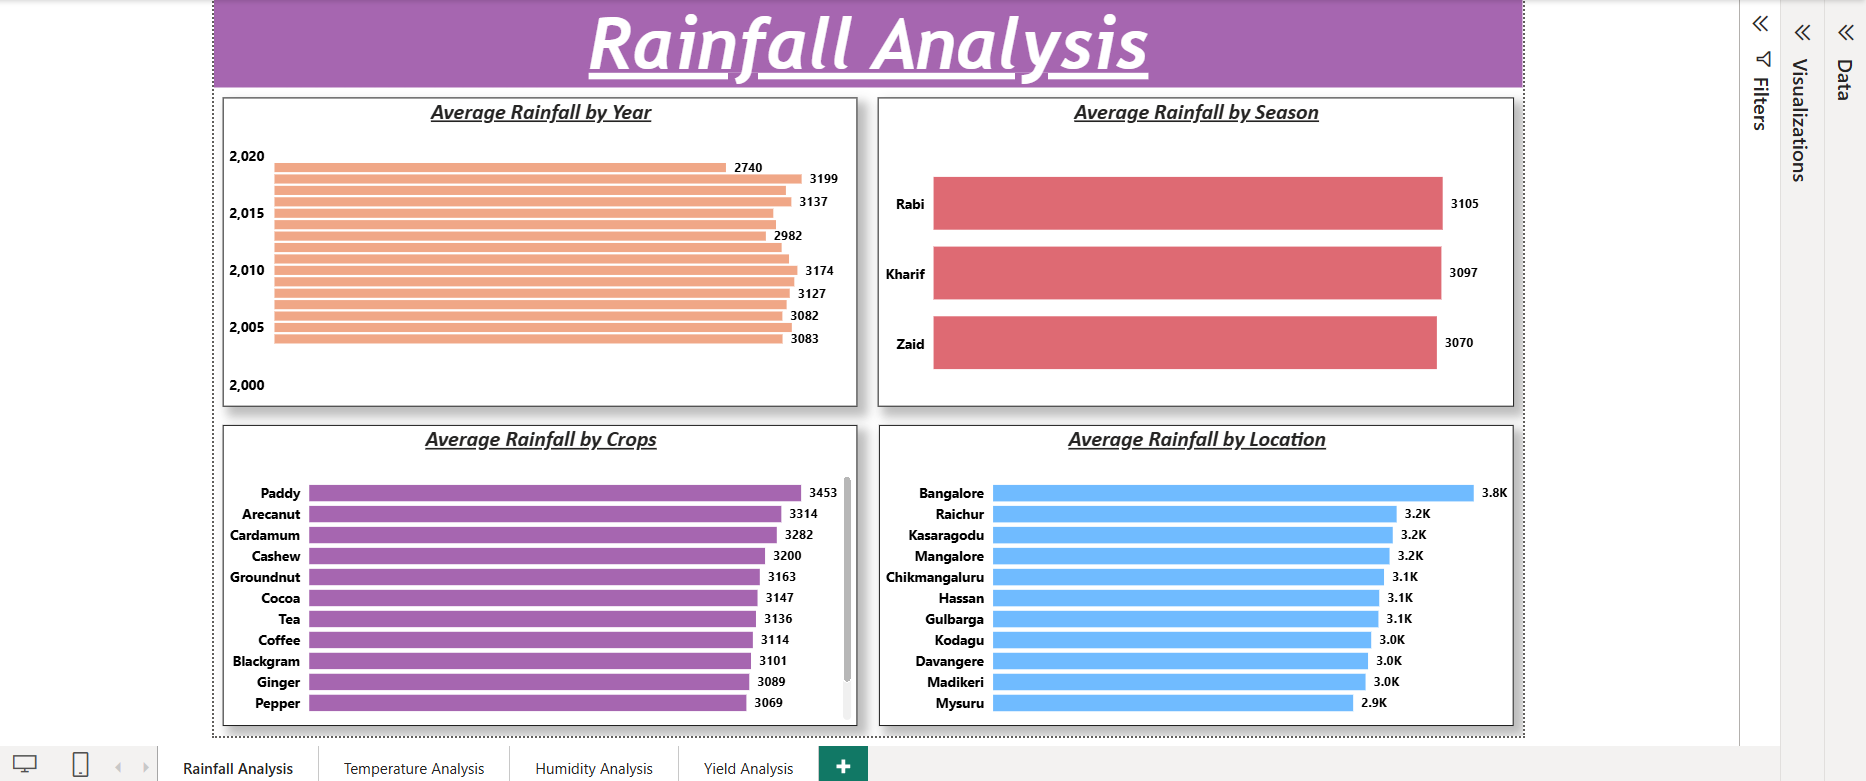

The dashboard page shown, as its layout file describes it:
{"tool":"powerbi","page":{"name":"Rainfall Analysis","canvas":[1280,720],"ordinal":0},"visuals":[{"type":"shape","box":[0,0,1280.3,85.6],"z":0},{"type":"barChart","title":"Average Rainfall by Year","fields":{"Y":["Avg(AGRICULTURE.RAINFALL)"],"Category":["AGRICULTURE.YEAR"]},"box":[8.6,95.4,621.2,302],"z":1},{"type":"barChart","title":"Average Rainfall by Season","fields":{"Category":["AGRICULTURE.SEASON"],"Y":["Avg(AGRICULTURE.RAINFALL)"]},"box":[649.3,95.4,622.4,302],"z":2},{"type":"barChart","title":"Average Rainfall by Crops","fields":{"Y":["Avg(AGRICULTURE.RAINFALL)"],"Category":["AGRICULTURE.CROPS"]},"box":[8.6,415.8,621.2,294.7],"z":3},{"type":"barChart","title":"Average Rainfall by Location","fields":{"Y":["Avg(AGRICULTURE.RAINFALL)"],"Category":["AGRICULTURE.LOCATION"]},"box":[650.5,415.8,621.2,294.7],"z":4}]}

Visuals, with their boxes on the page's 1280x720 design canvas (x1, y1, x2, y2). These are canvas units, not pixel positions in the 1866x781 screenshot, which may show the page scaled, cropped or inside an application window:
shape: <region>0, 0, 1280, 86</region>
"Average Rainfall by Year" barChart: <region>9, 95, 630, 397</region>
"Average Rainfall by Season" barChart: <region>649, 95, 1272, 397</region>
"Average Rainfall by Crops" barChart: <region>9, 416, 630, 710</region>
"Average Rainfall by Location" barChart: <region>650, 416, 1272, 710</region>
